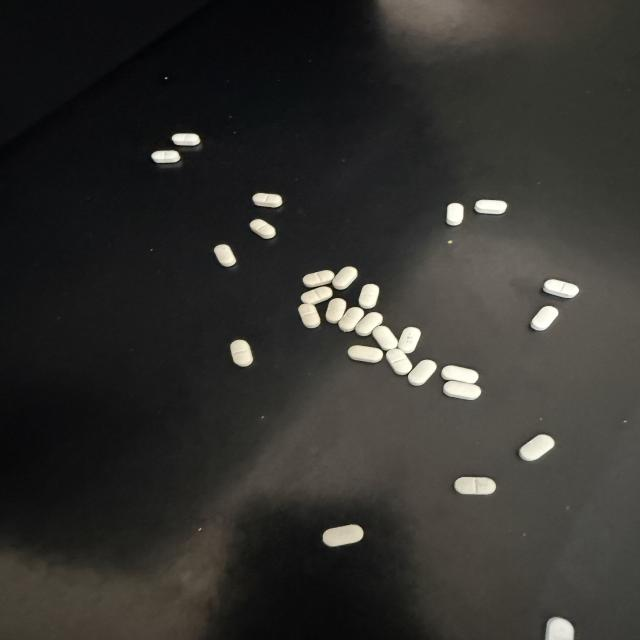pill: (519, 435, 554, 461), (323, 525, 363, 546), (408, 360, 437, 385), (454, 477, 496, 494), (443, 381, 481, 399), (543, 279, 579, 298), (386, 349, 412, 375), (338, 307, 364, 332), (355, 312, 382, 336), (531, 306, 558, 330), (442, 365, 478, 383), (545, 617, 574, 639), (348, 345, 383, 363), (373, 326, 397, 350), (231, 340, 253, 366), (398, 327, 420, 353), (333, 267, 357, 289), (301, 287, 332, 304), (303, 270, 334, 287), (299, 304, 320, 328), (326, 298, 346, 323), (359, 284, 379, 309), (250, 219, 275, 238), (214, 245, 236, 266), (475, 200, 507, 214), (253, 193, 282, 207), (151, 150, 180, 163), (446, 203, 463, 225), (172, 134, 200, 146)
